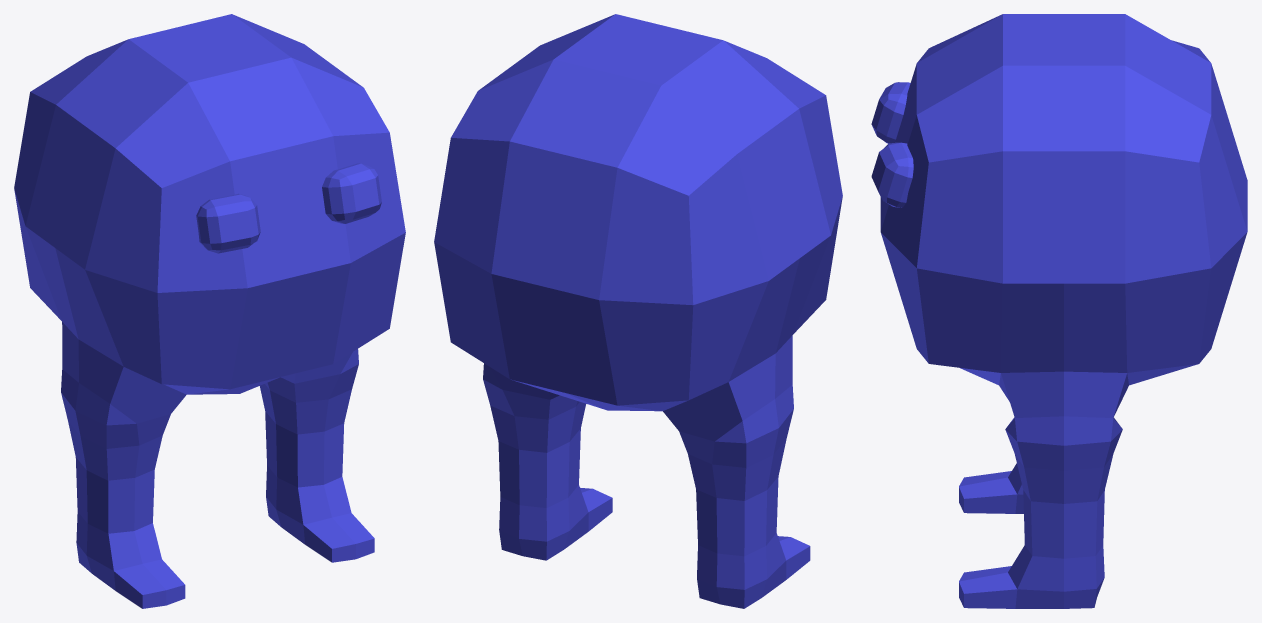
The model's file is webmoshpit_00.glb.
3 renders of one model, left to right at view 1: azimuth 30°, elevation 25°; view 2: azimuth 150°, elevation 25°; view 3: azimuth 270°, elevation 25°, orthographic. The views are drawn at different scales.
Parts seen in each view (by area): view 1: Cube; view 2: Cube; view 3: Cube.
Part boxes in pixels (bbox=[...]): Cube: bbox=[14, 14, 405, 608]; Cube: bbox=[434, 14, 842, 608]; Cube: bbox=[871, 14, 1247, 608].
Size of the model in its own units: 2 by 3.07 by 2.05.
